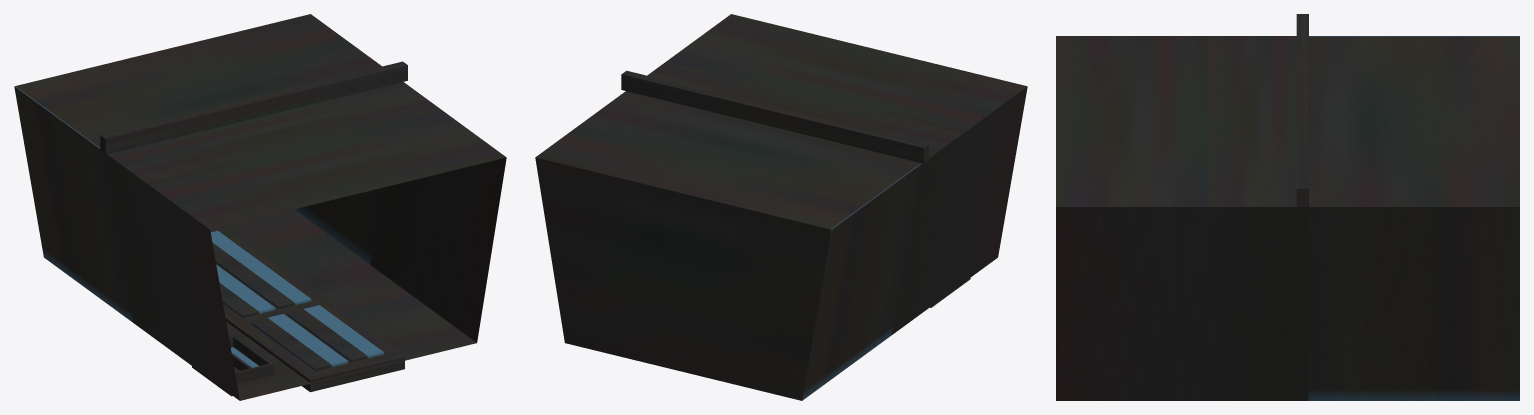
The model's file is balcony.obj.
The picture shows the model from 3 angles, left to right: view 1: azimuth 30°, elevation 25°; view 2: azimuth 150°, elevation 25°; view 3: azimuth 270°, elevation 25°; orthographic projection. The views are drawn at different scales.
Size of the model in its own units: 2.04 by 1.33 by 2.29.
